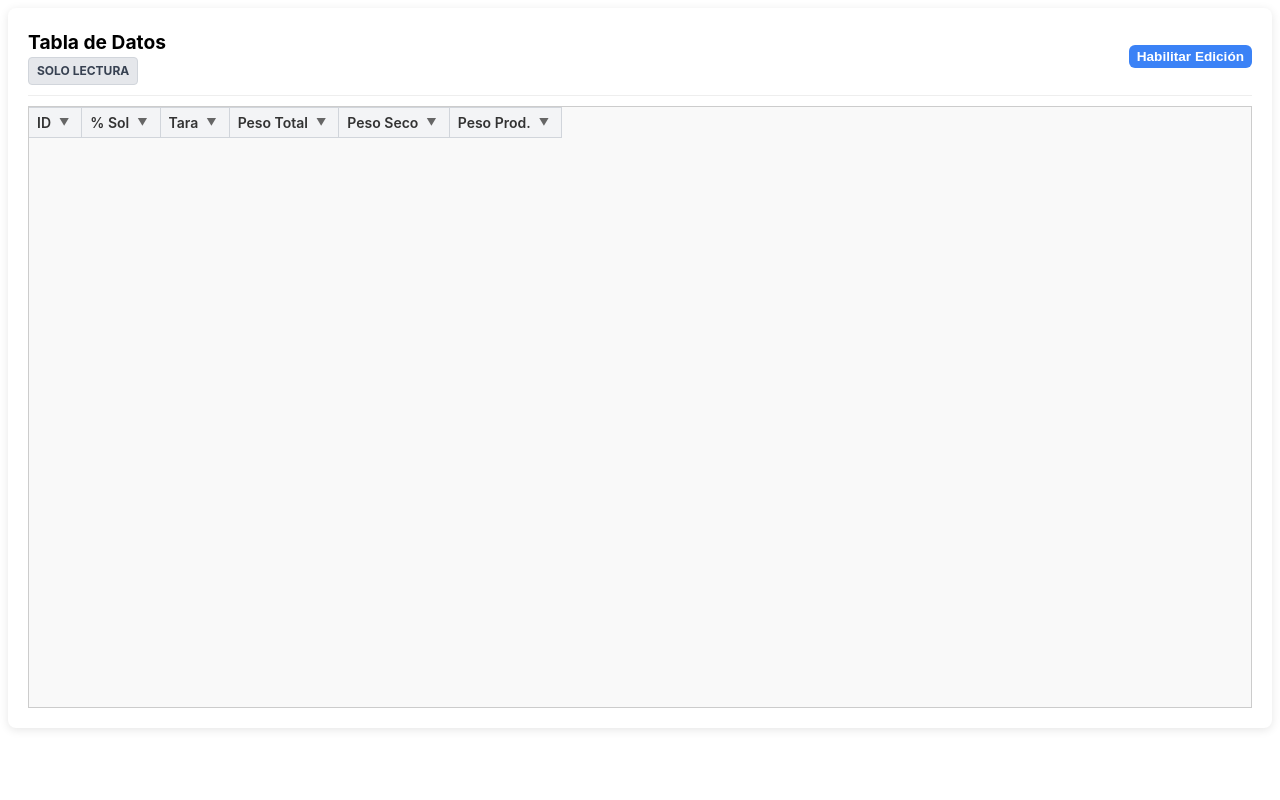
it: ExcelGrid: columnas calculadas › corregir Peso Prod. a mano recalcula % Sol
This screenshot has width=1280, height=800.
Click the button "Habilitar Edición".
click(1190, 56)  # box [1129, 45, 1252, 68]
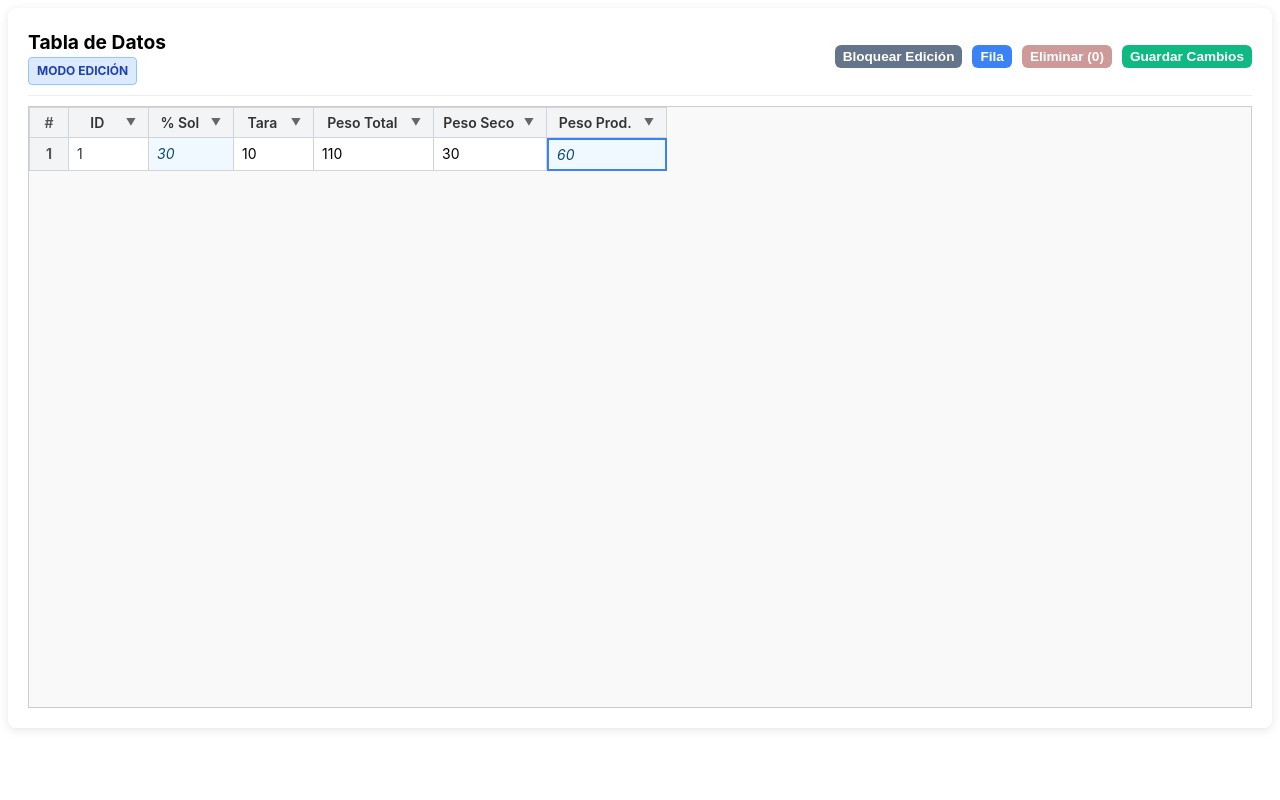
Clear the cell "60" at (607, 154), box [547, 138, 667, 171]
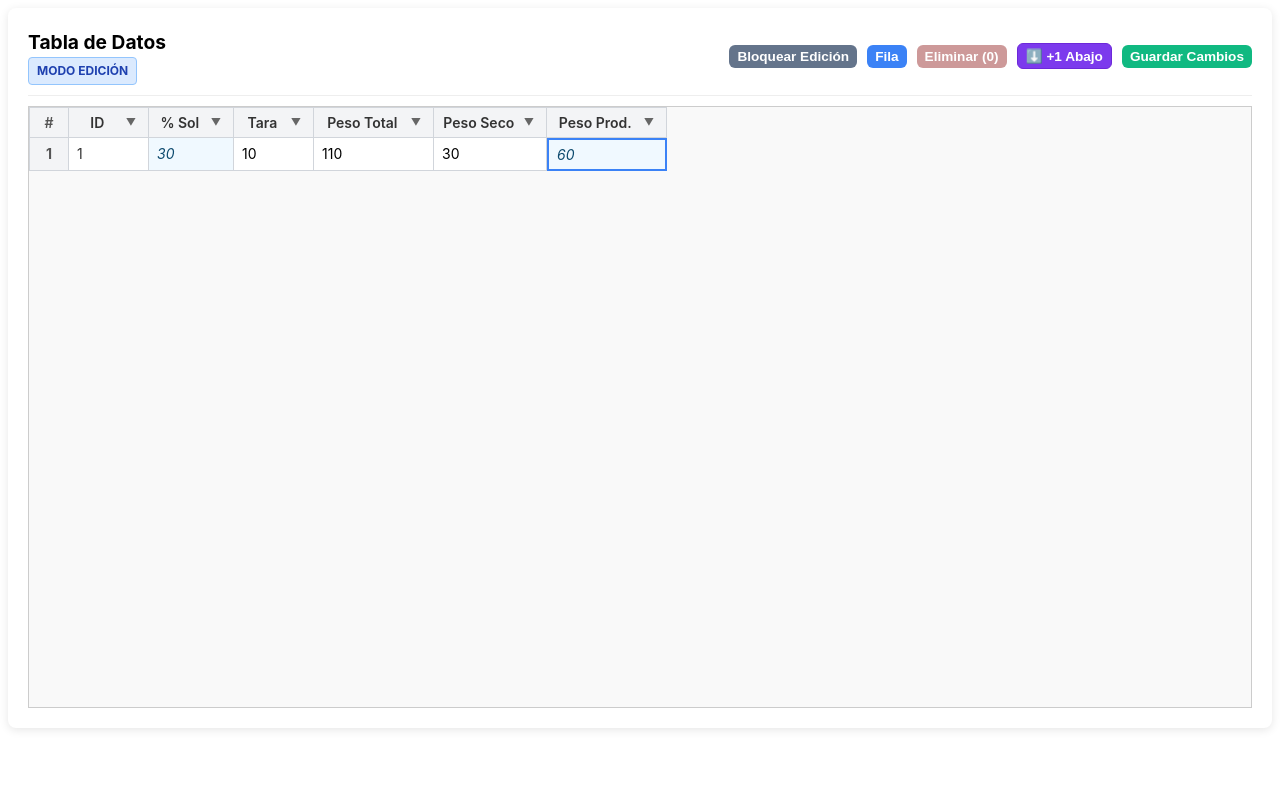
Leave the cell "60", box [547, 138, 667, 171]
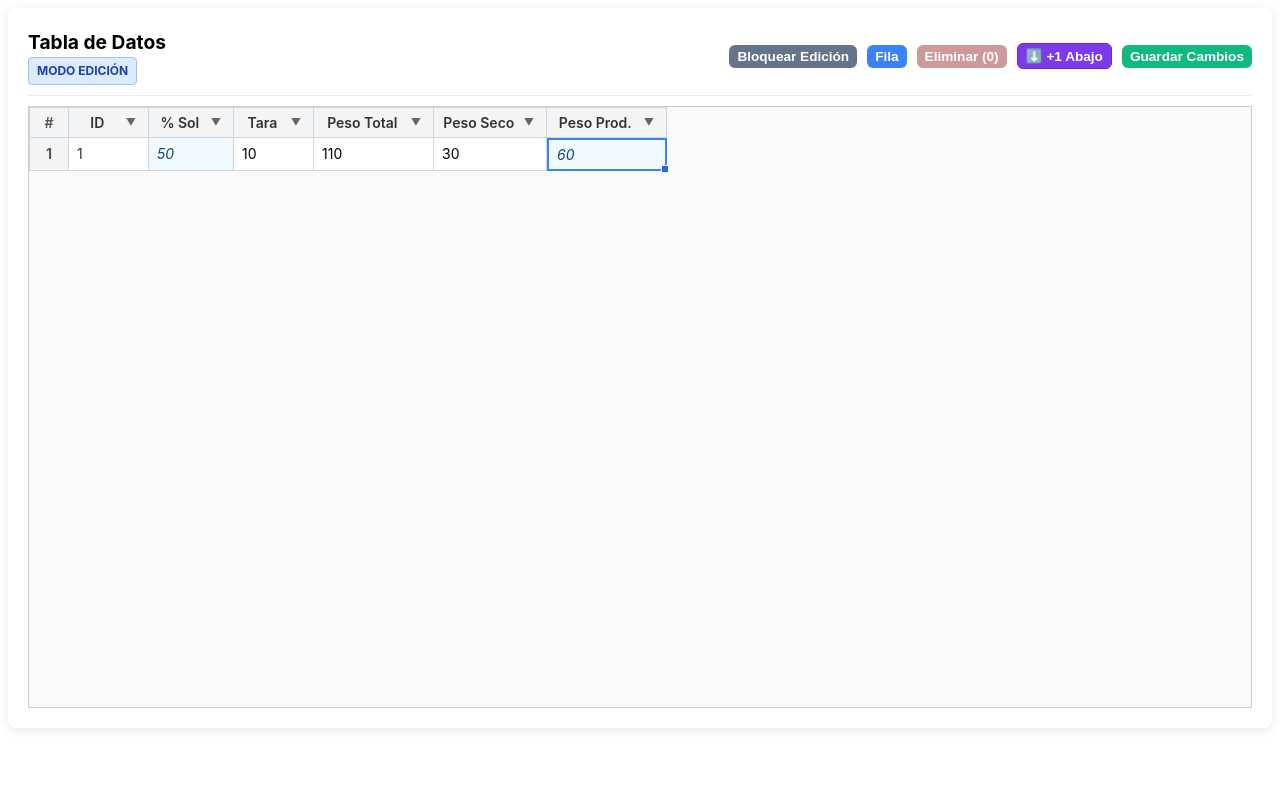
Now the cell "50" is shown, box [149, 138, 234, 171]
